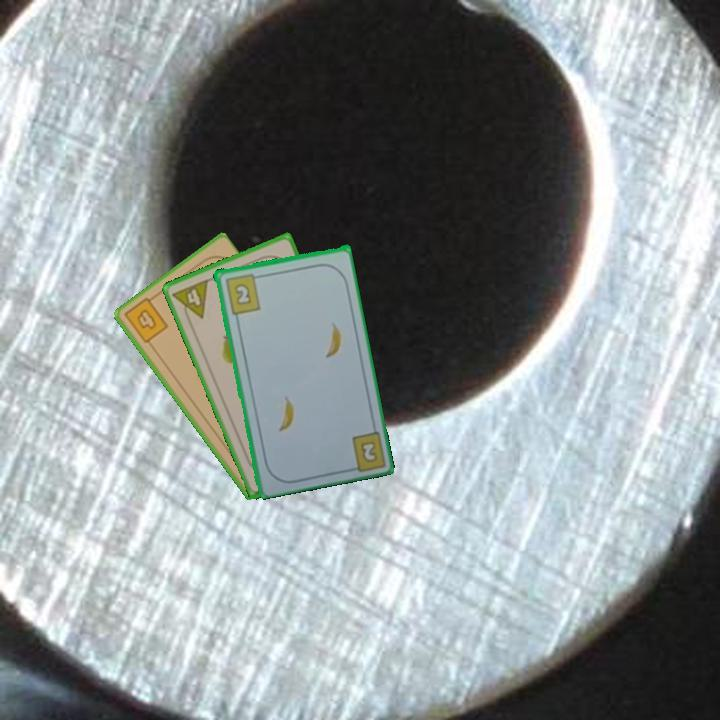2b: (221, 270, 263, 317), (357, 437, 380, 465)
4b: (121, 292, 171, 346)
4p: (169, 275, 211, 326)
